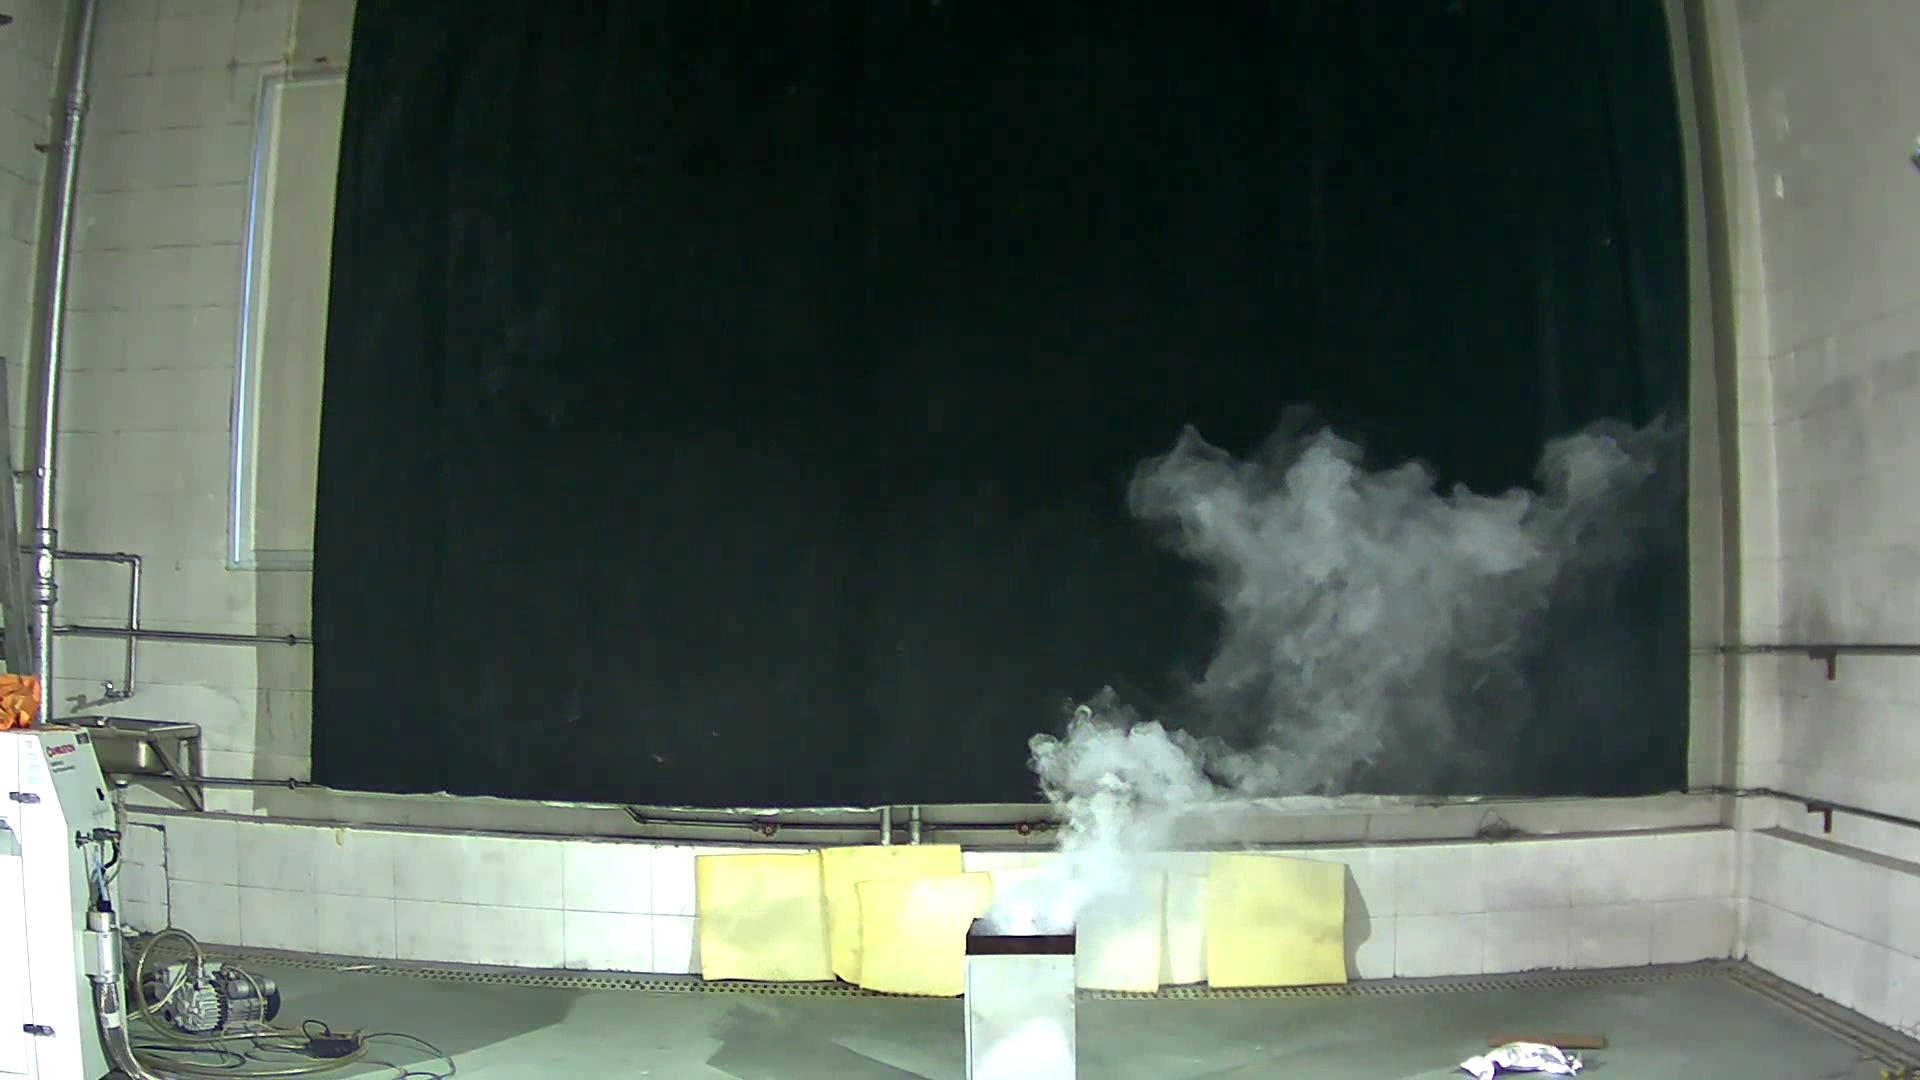smoke: (998, 392, 1613, 932)
